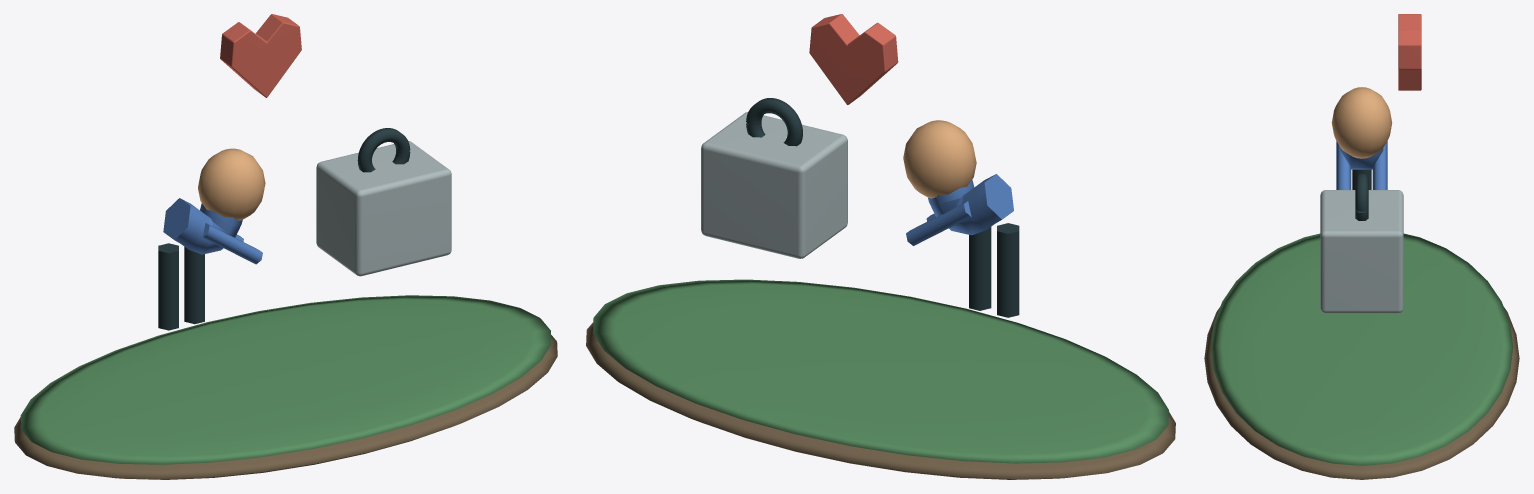
Rendered from complete-third-respect-weight.glb.
3 renders of one model, left to right at view 1: azimuth 30°, elevation 25°; view 2: azimuth 150°, elevation 25°; view 3: azimuth 270°, elevation 25°, orthographic. The views are drawn at different scales.
Parts seen in each view (by area): view 1: complete-third-respect-weight_surface_01, complete-third-respect-weight_surface_05, complete-third-respect-weight_surface_00, complete-third-respect-weight_surface_04, complete-third-respect-weight_surface_06, complete-third-respect-weight_surface_02, complete-third-respect-weight_surface_03; view 2: complete-third-respect-weight_surface_01, complete-third-respect-weight_surface_05, complete-third-respect-weight_surface_00, complete-third-respect-weight_surface_04, complete-third-respect-weight_surface_06, complete-third-respect-weight_surface_02, complete-third-respect-weight_surface_03; view 3: complete-third-respect-weight_surface_01, complete-third-respect-weight_surface_05, complete-third-respect-weight_surface_00, complete-third-respect-weight_surface_02, complete-third-respect-weight_surface_06, complete-third-respect-weight_surface_03, complete-third-respect-weight_surface_04.
Boxes of the visible parts, x1,y1,x2,y2 form: complete-third-respect-weight_surface_01: (20, 295, 551, 464); complete-third-respect-weight_surface_05: (316, 141, 451, 276); complete-third-respect-weight_surface_00: (14, 335, 557, 479); complete-third-respect-weight_surface_04: (158, 128, 410, 330); complete-third-respect-weight_surface_06: (220, 14, 301, 97); complete-third-respect-weight_surface_02: (198, 148, 265, 220); complete-third-respect-weight_surface_03: (163, 198, 262, 264); complete-third-respect-weight_surface_01: (593, 279, 1168, 463); complete-third-respect-weight_surface_05: (701, 112, 847, 258); complete-third-respect-weight_surface_00: (586, 322, 1175, 479); complete-third-respect-weight_surface_04: (746, 98, 1019, 317); complete-third-respect-weight_surface_06: (809, 14, 898, 104); complete-third-respect-weight_surface_02: (903, 120, 976, 198); complete-third-respect-weight_surface_03: (906, 174, 1013, 245); complete-third-respect-weight_surface_01: (1210, 233, 1513, 465); complete-third-respect-weight_surface_05: (1320, 190, 1403, 313); complete-third-respect-weight_surface_00: (1204, 307, 1519, 479); complete-third-respect-weight_surface_02: (1331, 87, 1392, 158); complete-third-respect-weight_surface_06: (1398, 14, 1421, 90); complete-third-respect-weight_surface_03: (1336, 141, 1387, 189); complete-third-respect-weight_surface_04: (1352, 169, 1371, 220).
Bounding box in the file's own units: 4.56 × 3.07 × 2.5.
